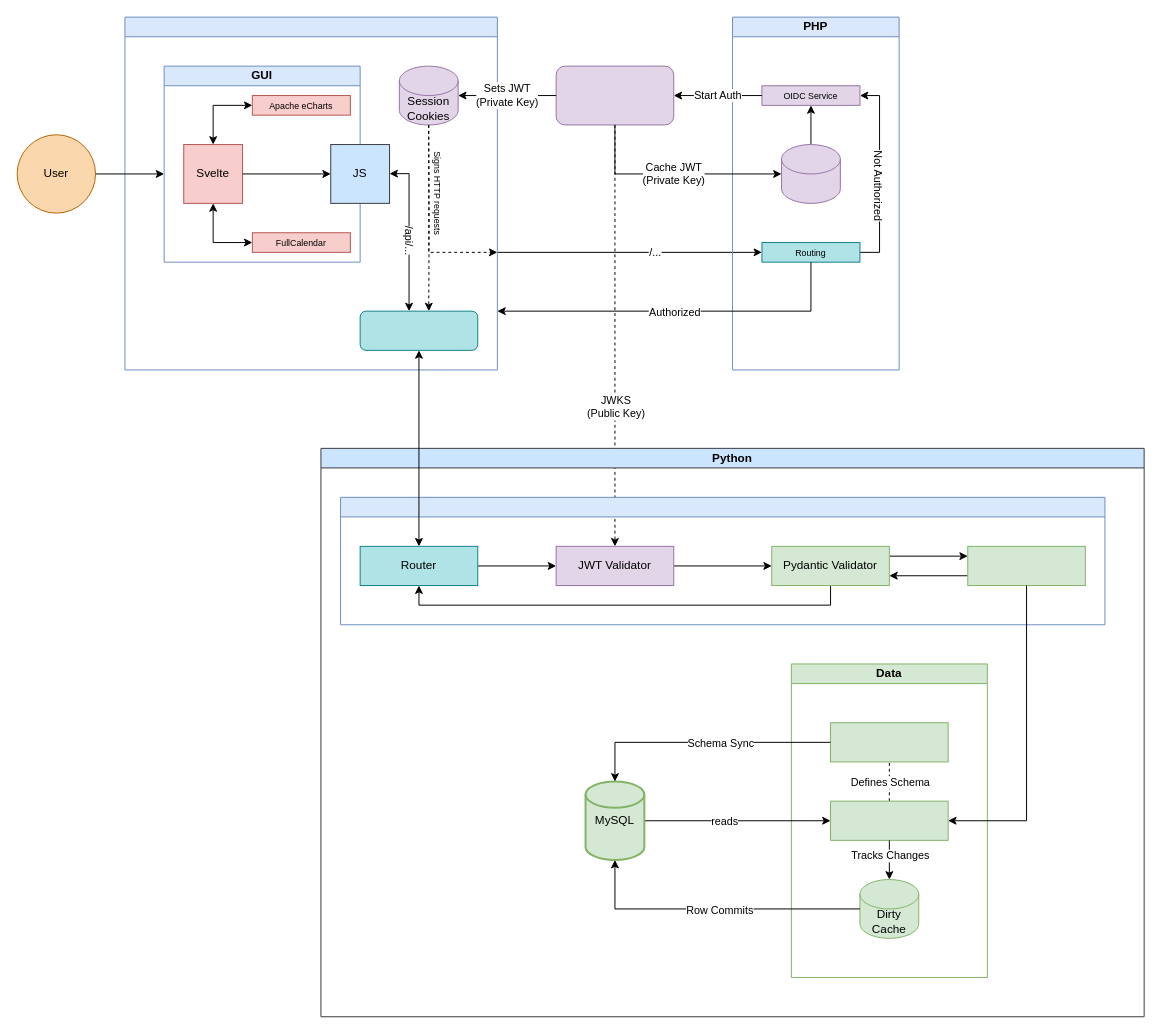
The diagram is 1161 pixels wide and 1034 high, and some of its shapes have lost their labels. The shapes that lost their labels are listed below. From the top down, each one's box as (x1, y1, x2, y2) in pixels, then its label:
(555, 65, 674, 125): NextCloud IdP
(124, 16, 497, 370): Browser
(781, 144, 840, 203): Cache
(359, 310, 478, 350): REST Request
(340, 496, 1105, 625): FastAPI
(967, 545, 1085, 586): Business Logic
(830, 722, 948, 762): Alembic
(830, 800, 948, 840): SQLAlchemy
